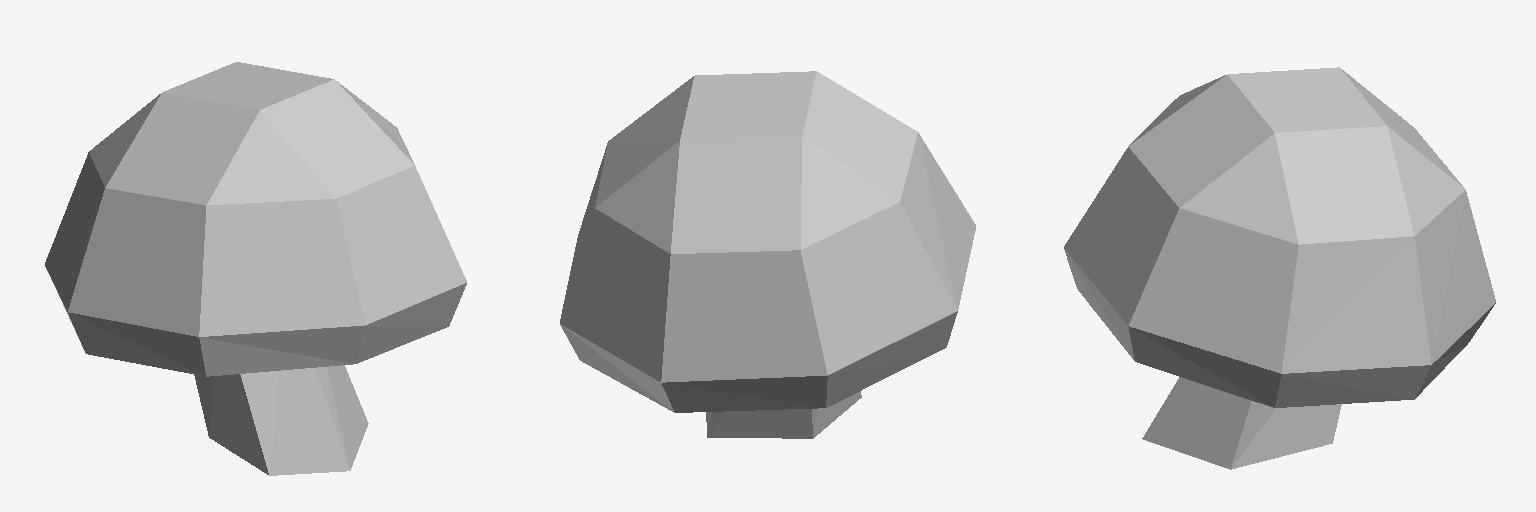
Rendered from Red_Mushroom_01.obj.
The picture shows the model from 3 angles: view 1: azimuth 30°, elevation 25°; view 2: azimuth 150°, elevation 25°; view 3: azimuth 270°, elevation 25°; orthographic projection.
Parts seen in each view (by area): view 1: Red_Mushroom; view 2: Red_Mushroom; view 3: Red_Mushroom.
Part boxes in pixels (x1,y1,x2,y2): Red_Mushroom: (45,62,466,475); Red_Mushroom: (560,71,975,438); Red_Mushroom: (1064,67,1495,469).
Bounding box in the file's own units: 5.41 × 4.67 × 5.36.